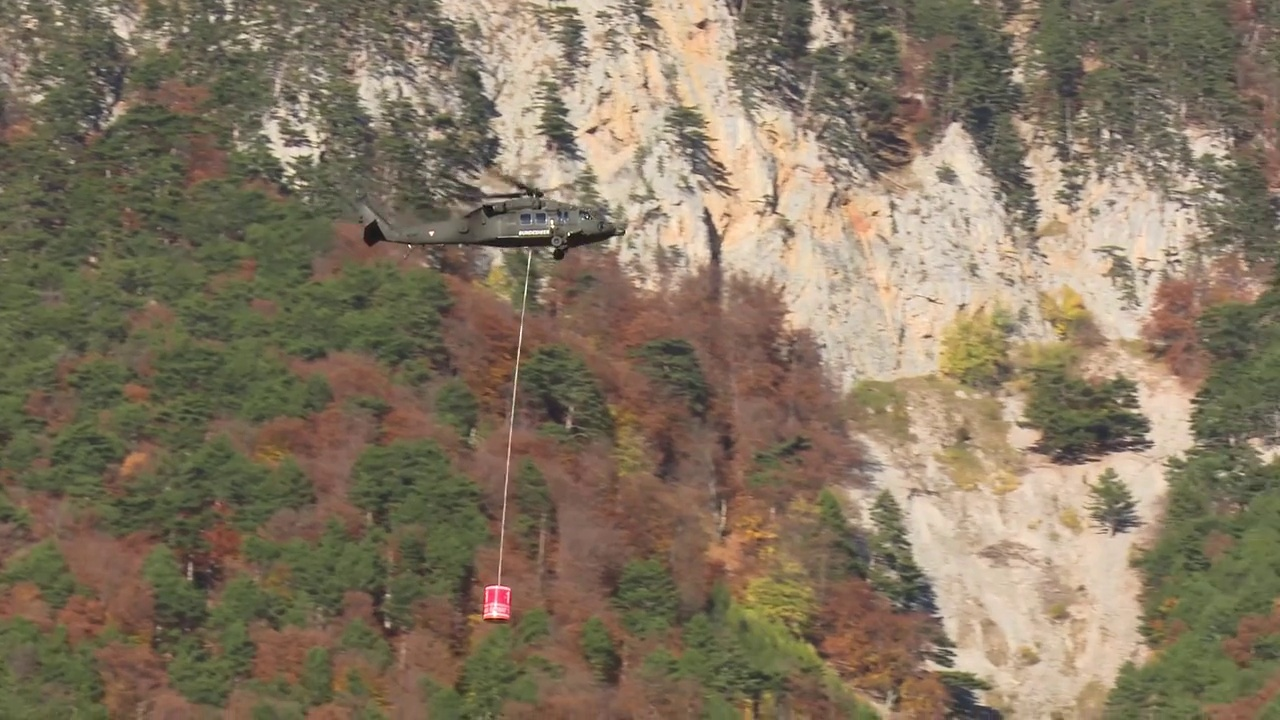heli: (358, 182, 625, 258)
